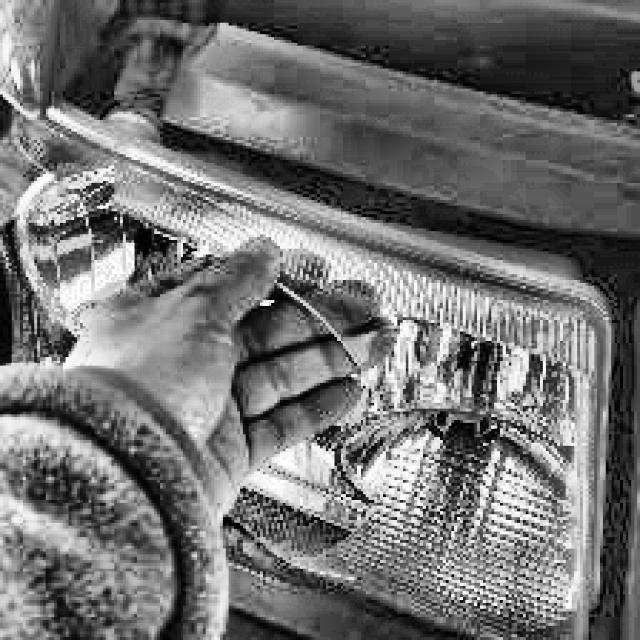head_lamp: (18, 187, 401, 567)
